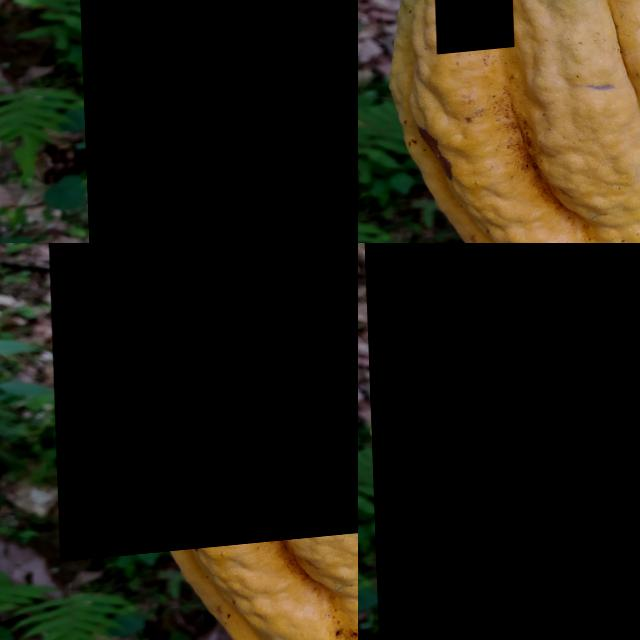Sana: (362, 243, 640, 640), (45, 243, 358, 562), (69, 0, 358, 243), (544, 6, 637, 198), (429, 0, 511, 58)
